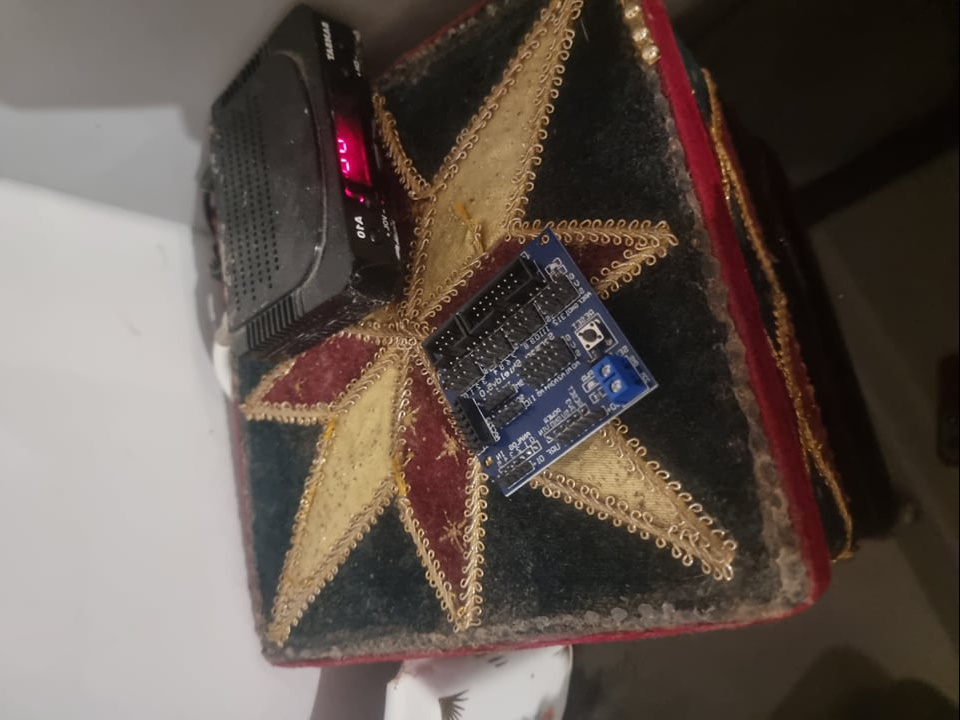5V EXPANSION: (427, 228, 661, 497)
